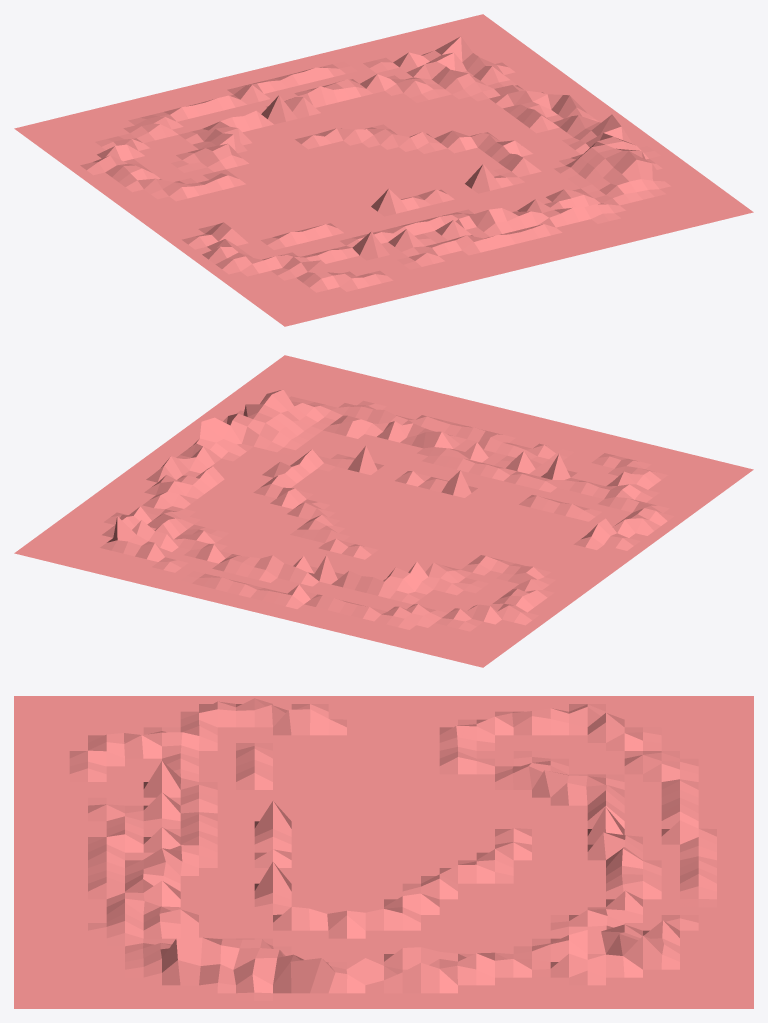
Rendered from ground.dae.
3 renders of one model, top to bottom at view 1: azimuth 30°, elevation 25°; view 2: azimuth 150°, elevation 25°; view 3: azimuth 270°, elevation 25°, orthographic. The views are drawn at different scales.
Visible parts, largest first — view 1: Ground; view 2: Ground; view 3: Ground.
Boxes of the visible parts, x1,y1,x2,y2 form: Ground: (14,14,753,326); Ground: (14,355,753,667); Ground: (14,696,753,1008).
Size of the model in its own units: 2000 by 101 by 2000.
